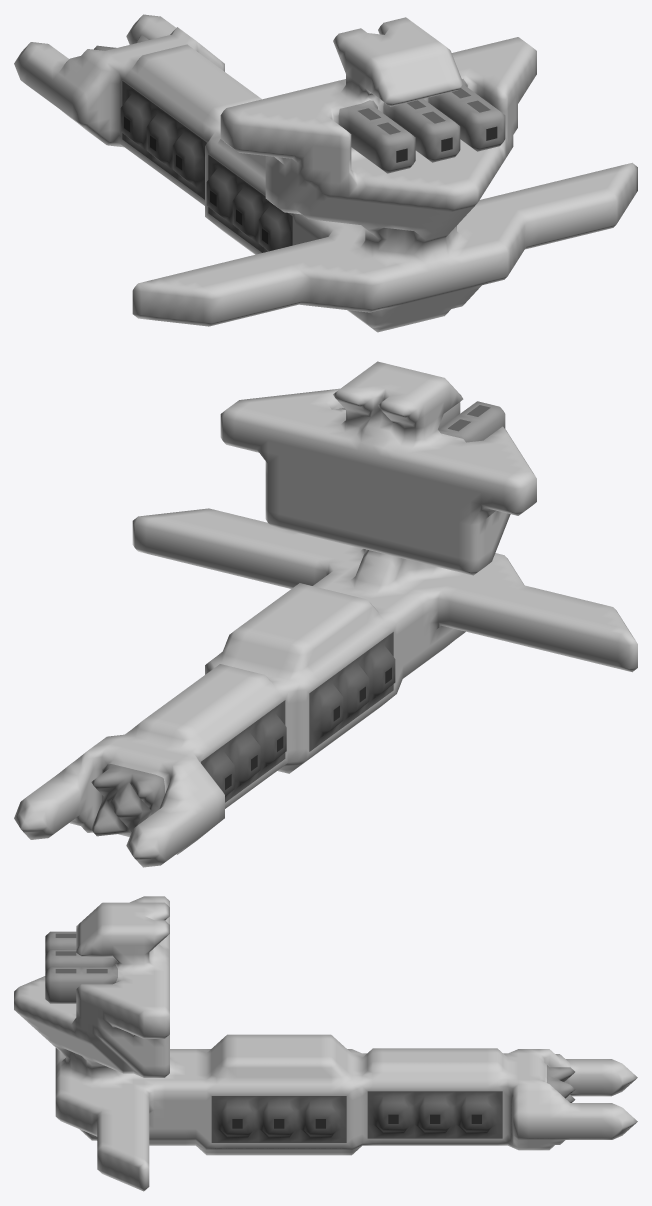
Rendered from fulkreykk-3-brekoryn-class.obj.
The picture shows the model from 3 angles, top to bottom: view 1: azimuth 30°, elevation 25°; view 2: azimuth 150°, elevation 25°; view 3: azimuth 270°, elevation 25°; orthographic projection. The views are drawn at different scales.
Bounding box in the file's own units: 45 × 24 × 60.
Materials: 1 (1 with a texture image).
